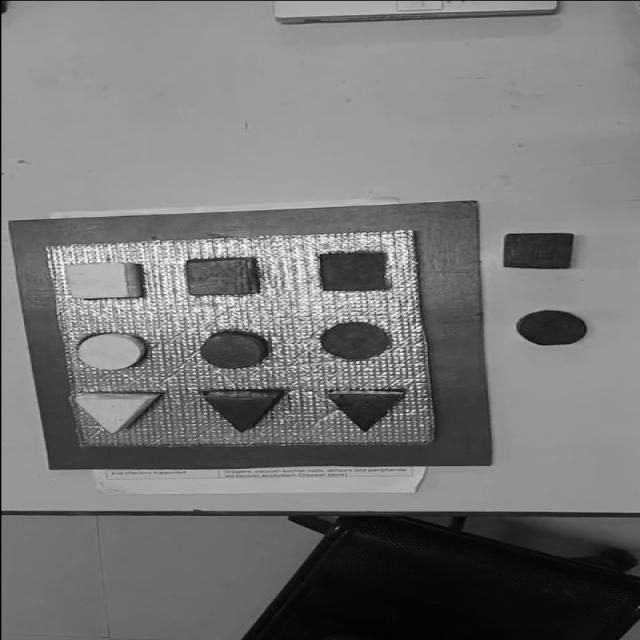bcircle: (515, 309, 588, 347)
bcube: (500, 232, 576, 270)
btriangle: (324, 388, 406, 433)
mtcircle: (320, 321, 390, 358)
mtcube: (316, 251, 391, 293)
rcircle: (199, 332, 266, 369)
rcube: (184, 257, 258, 296)
rtriangle: (199, 389, 282, 433)
wb: (41, 224, 444, 454)
ycircle: (75, 332, 148, 371)
ycube: (63, 261, 144, 300)
ytriangle: (72, 390, 162, 434)
